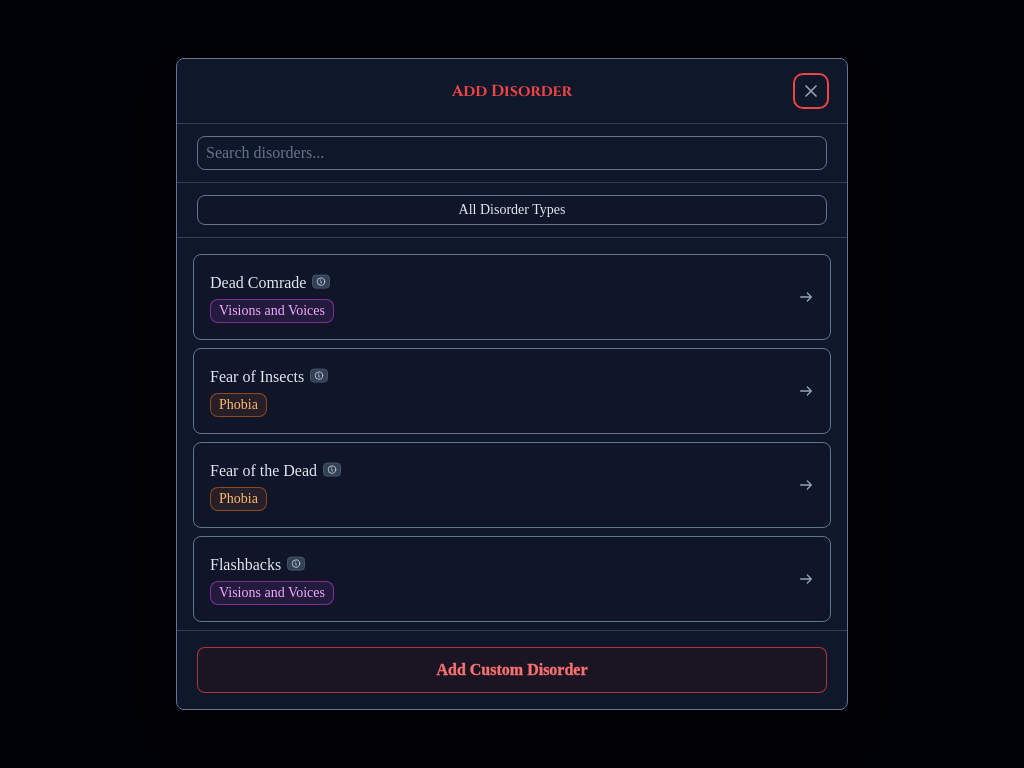
Test: InsanityDisorderPicker › filters the list by disorder type
This screenshot has width=1024, height=768.
Expected: the text "Fear of the Dead" is shown, [210, 459, 317, 483]
Click the button "All Disorder Types": (512, 210) [197, 195, 827, 225]
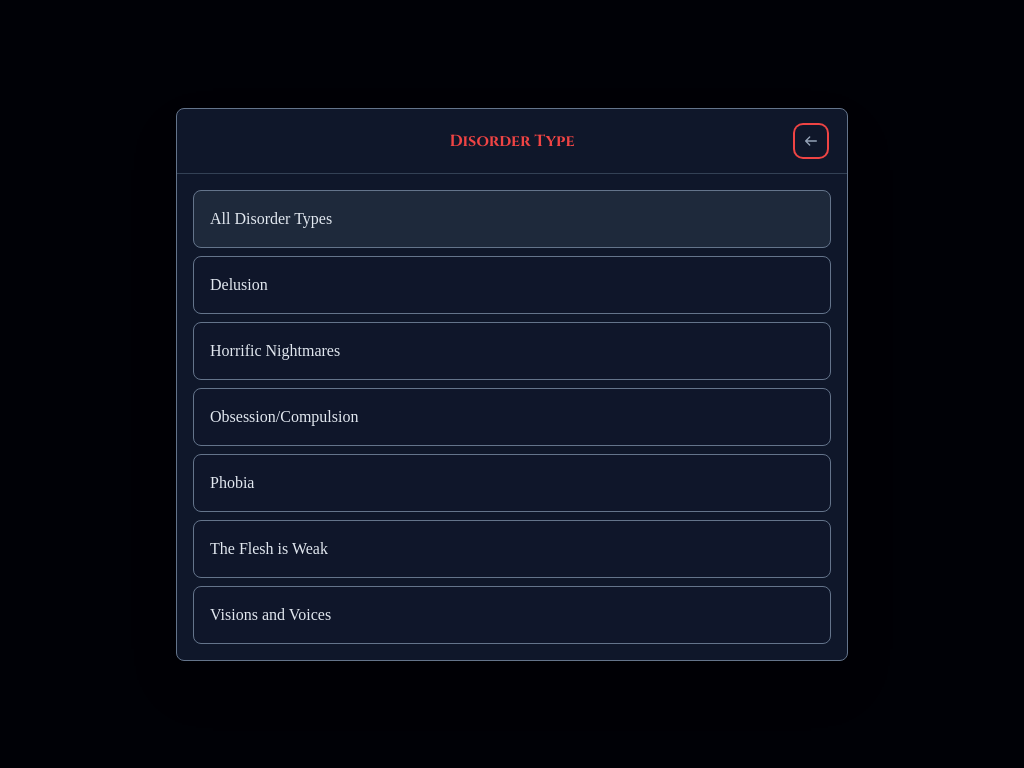
Click the button "Phobia": (232, 482) [193, 454, 831, 512]
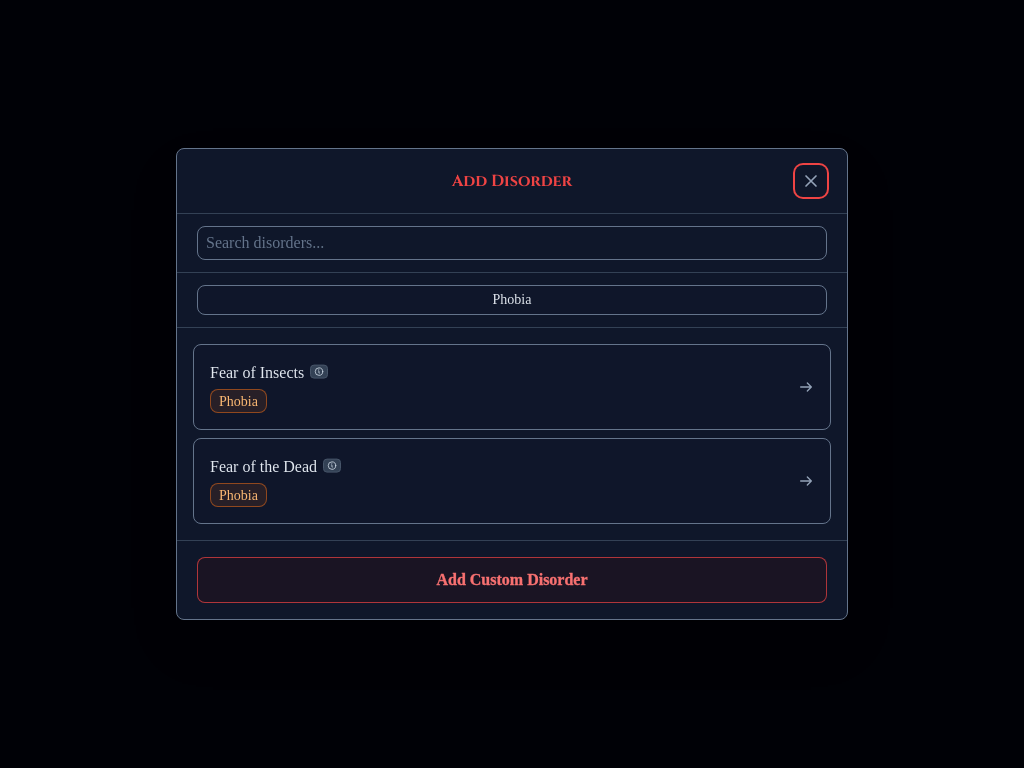
Expected: the text "Fear of the Dead" is shown, [210, 455, 317, 479]
